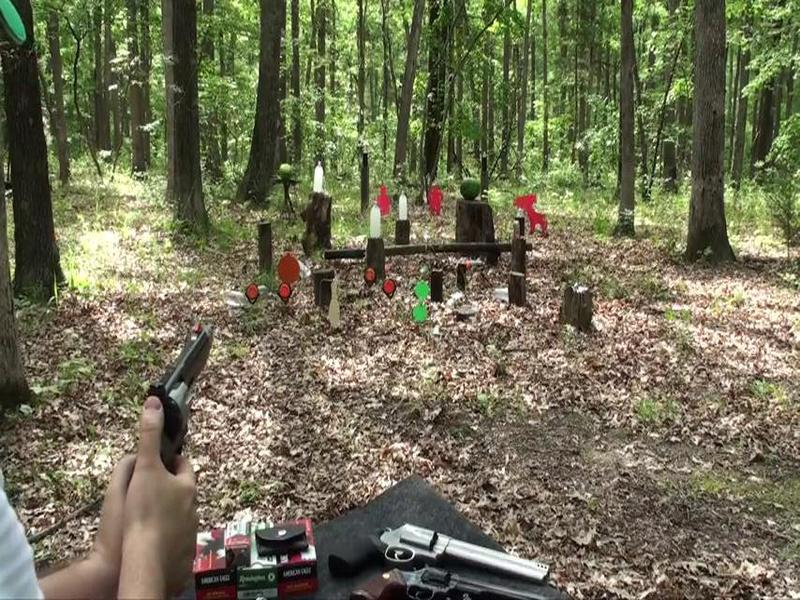Revolver: (117, 310, 237, 495)
